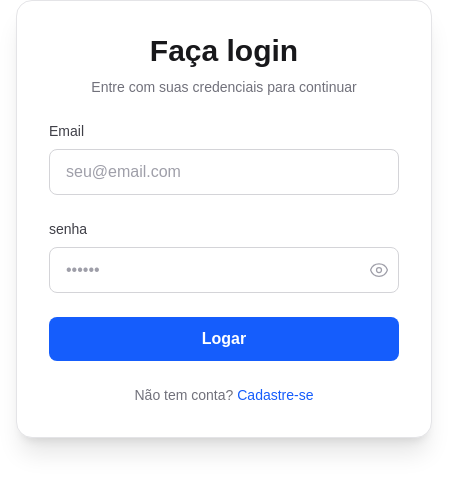
it: LoginComponent › should error password when hints the button
The image size is (449, 500).
Type "xlzthiago@gmail.com" into the field labelled "Email" at (224, 172), box [49,149,399,195]
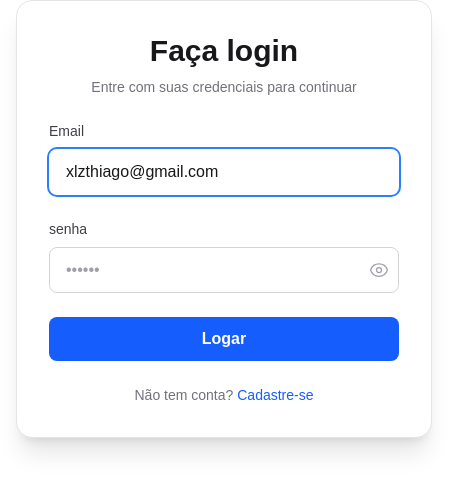
Type "1234" into the password field labelled "senha" at (224, 270), box [49,247,399,293]
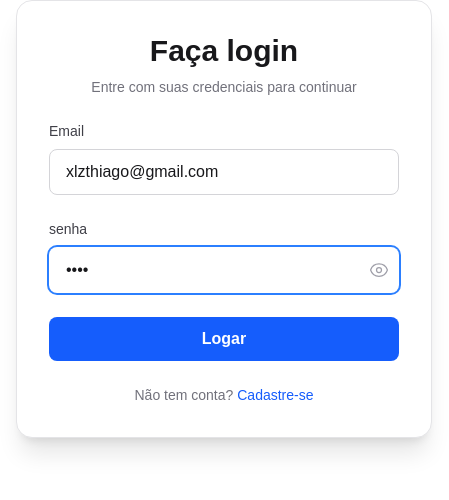
Click the button "Logar" at (224, 339), box [49,317,399,361]
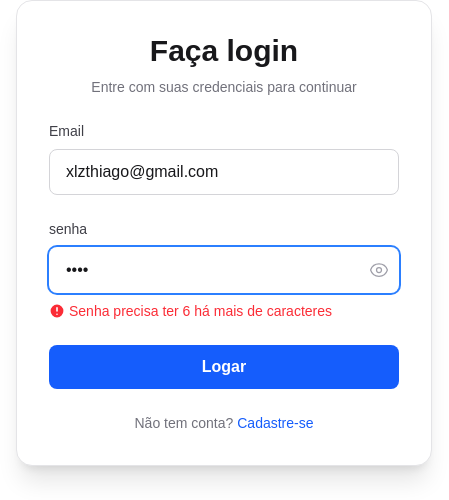
Expected: the text "Senha precisa ter 6 há mais de caracteres" is shown, [49,303,332,319]
